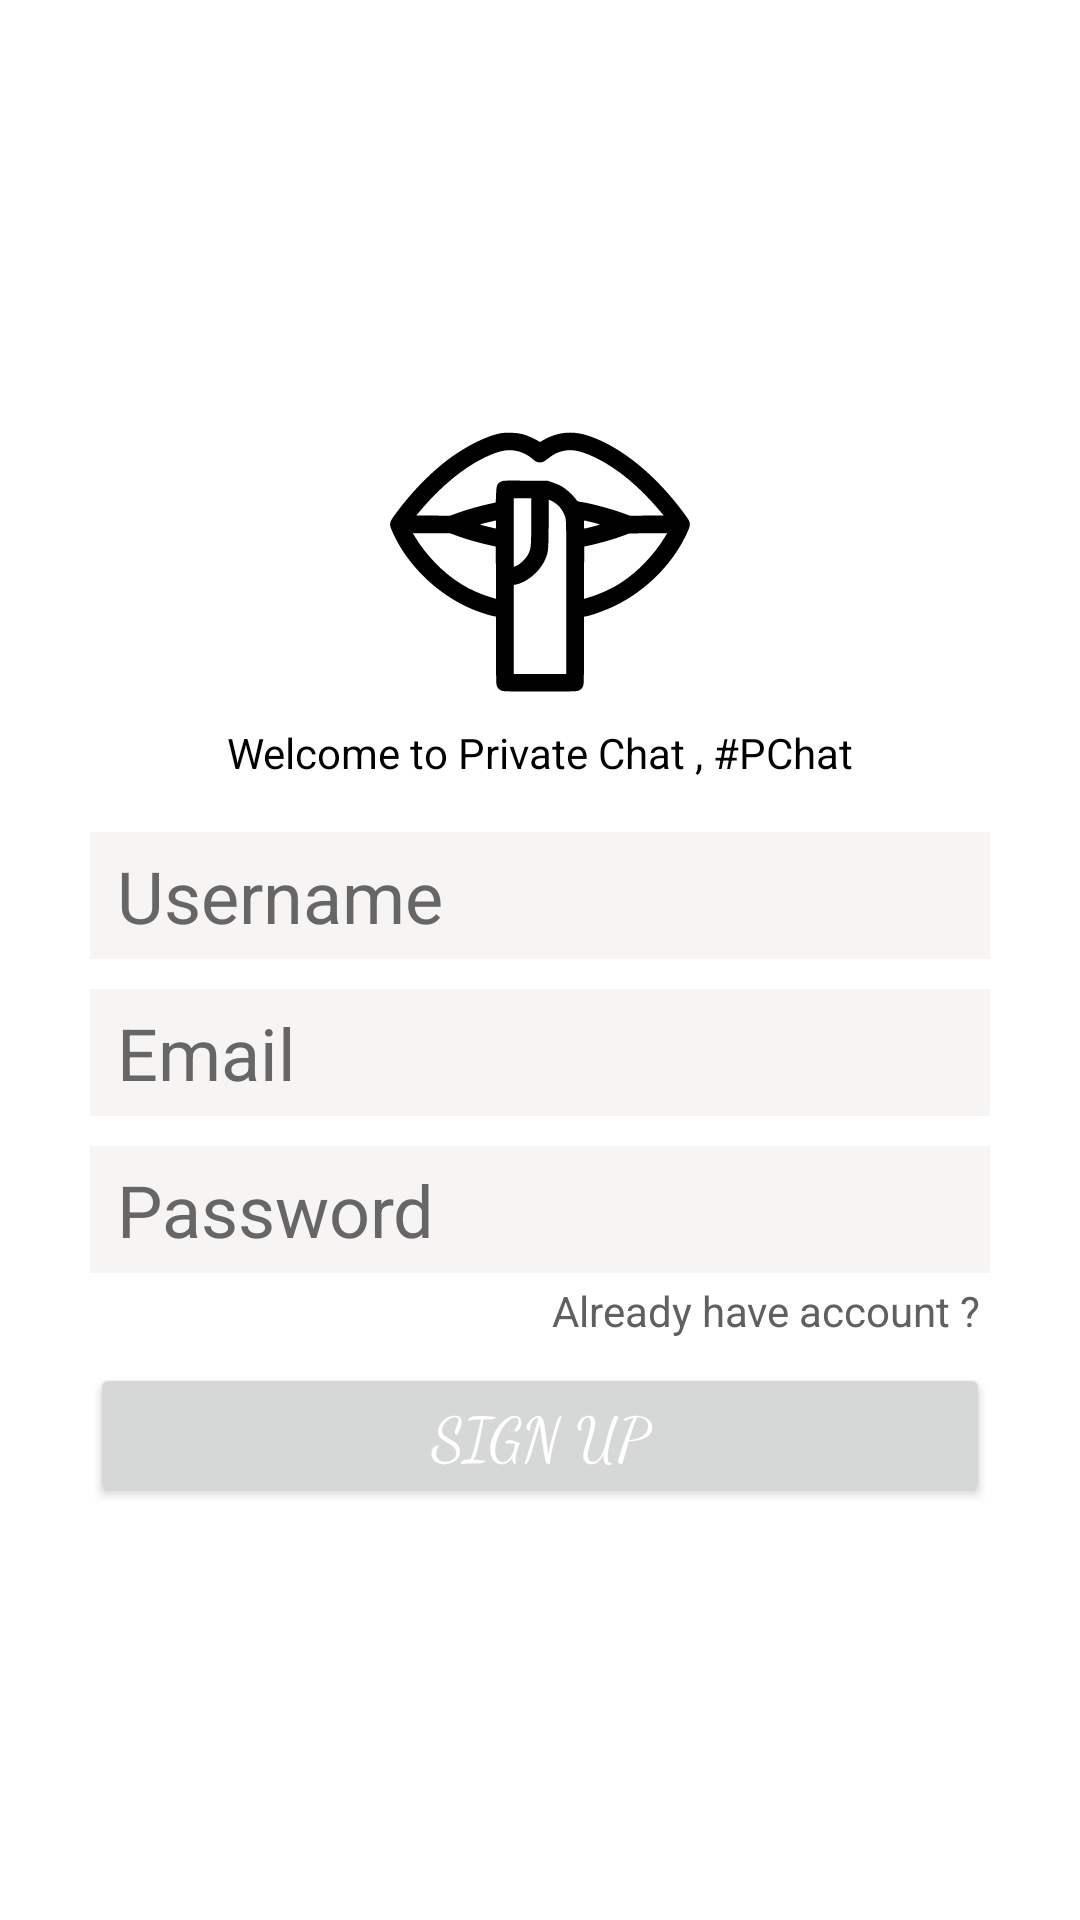

Icons on this 1080px x 1920px Android screen, each with its box as (x1, y1, x2, y2):
silence: (390, 432, 690, 692)
